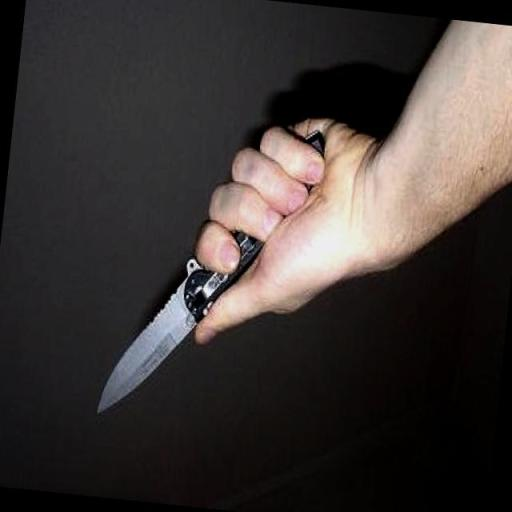knife: (95, 110, 327, 434)
